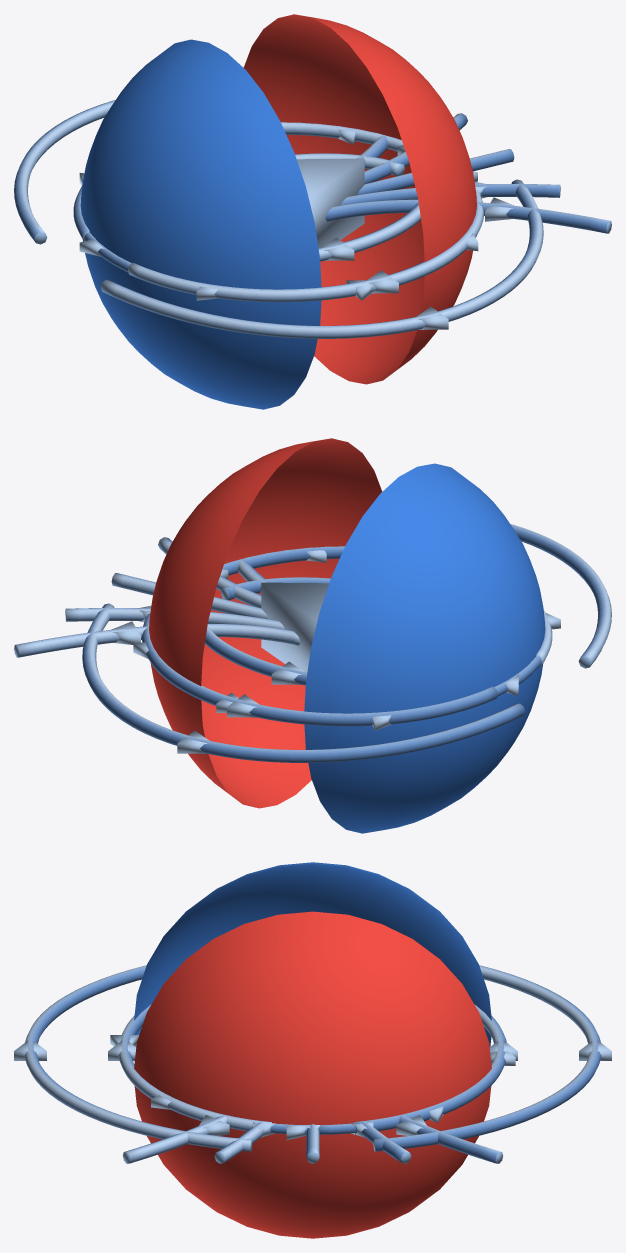
Rendered from MagnetField.glb.
The picture shows the model from 3 angles, top to bottom: view 1: azimuth 30°, elevation 25°; view 2: azimuth 150°, elevation 25°; view 3: azimuth 270°, elevation 25°; orthographic projection. The views are drawn at different scales.
Parts seen in each view (by area): view 1: PoleCaps, FieldArcs, FieldFlares, Chevron, FieldRing; view 2: PoleCaps, FieldArcs, FieldFlares, Chevron, FieldRing; view 3: PoleCaps, FieldArcs, FieldFlares, FieldRing.
Boxes of the visible parts, x1,y1,x2,y2 form: PoleCaps: (80,14,476,409); FieldArcs: (14,100,543,338); FieldFlares: (325,113,611,233); Chevron: (296,158,364,248); FieldRing: (79,129,478,300); PoleCaps: (149,438,545,833); FieldArcs: (82,524,611,762); FieldFlares: (14,537,300,657); Chevron: (261,582,329,672); FieldRing: (133,550,560,730); PoleCaps: (134,862,491,1238); FieldArcs: (14,965,611,1151); FieldFlares: (122,1115,503,1163); FieldRing: (110,1035,515,1140).
Size of the model in its own units: 2.61 by 1.91 by 3.18.
Materials: 1 (1 with a texture image).
